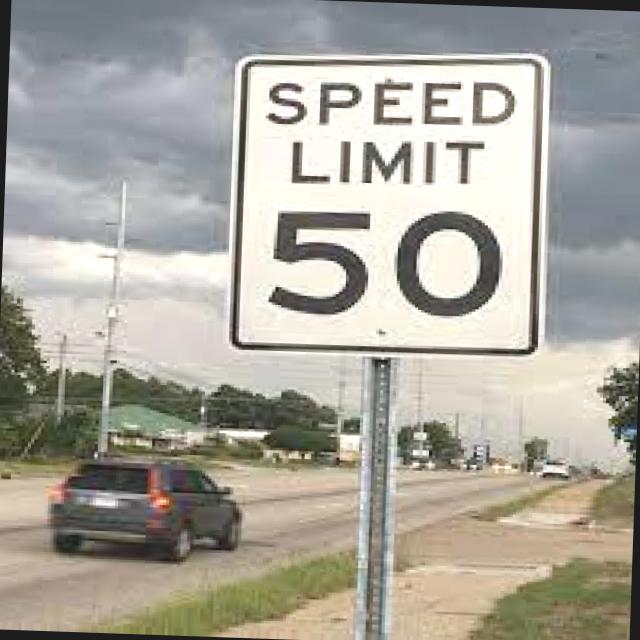Speed Limit Signs: (218, 37, 554, 362)
